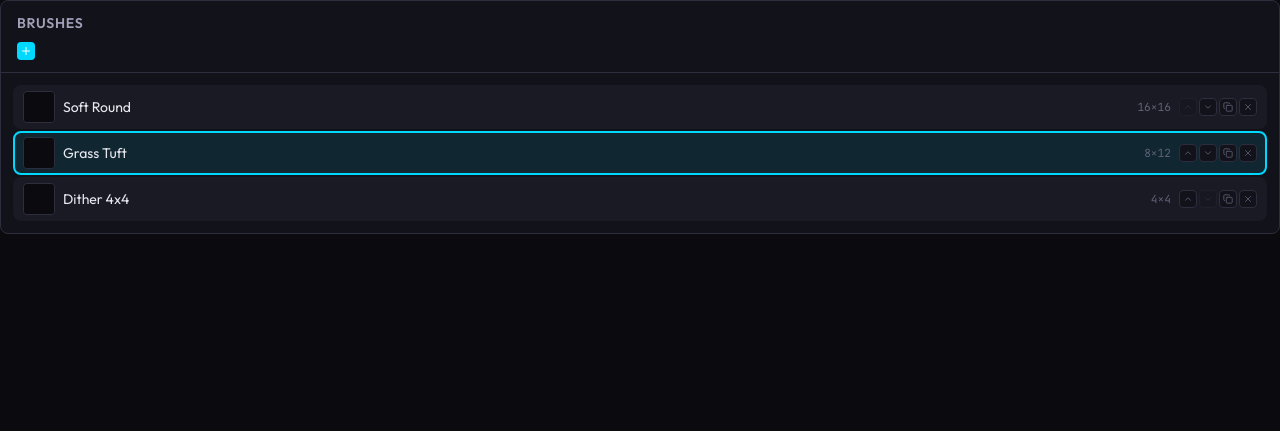
Test: BrushList — the create form › Enter in the name field submits; Escape cancels the form
Click the button named "New brush" at (26, 51), box [17,42,35,60]
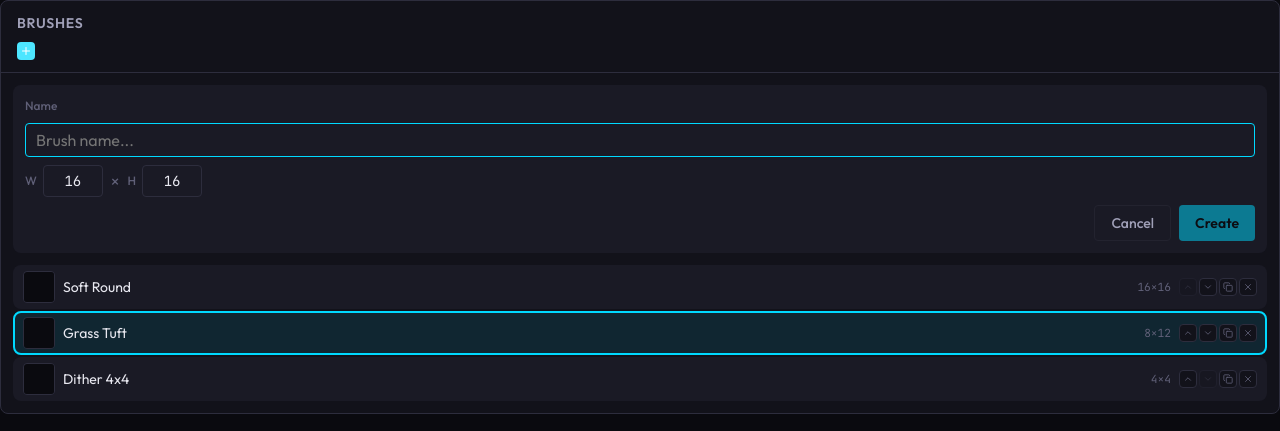
Type "Quick" into the field labelled "Name" at (640, 140), box [25,123,1255,157]
Then press Enter
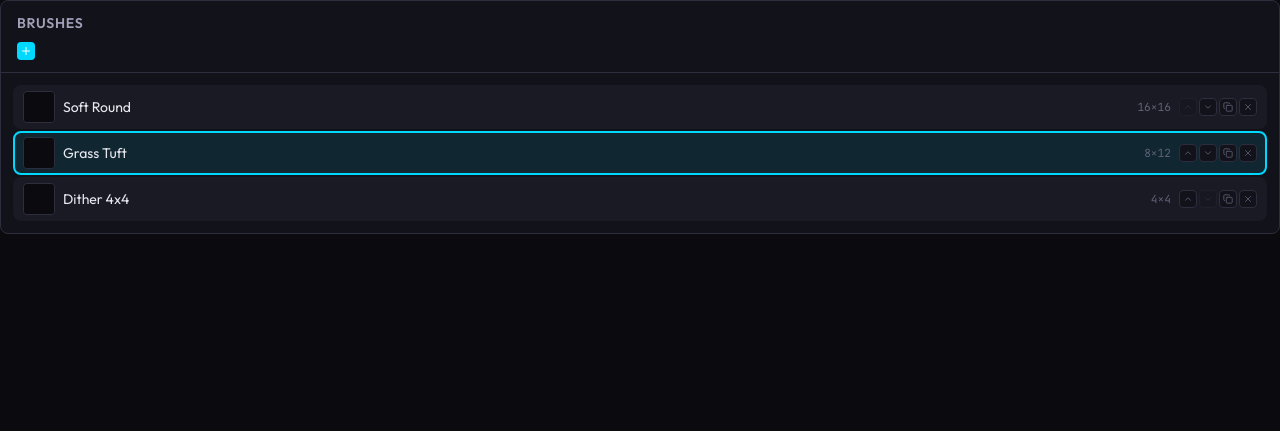
Result: the label labelled "Name" is gone
Click the button named "New brush" at (26, 51), box [17,42,35,60]
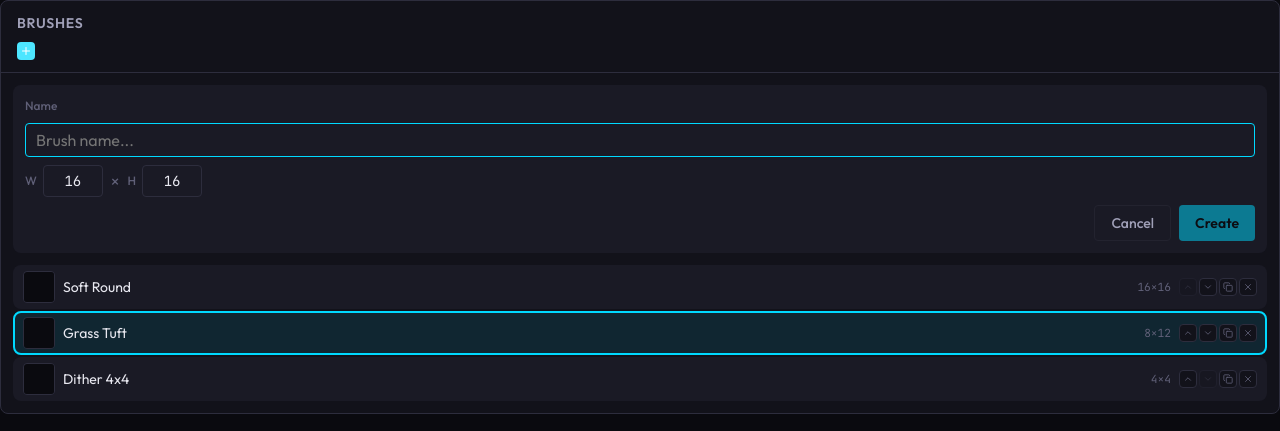
Type "Nope" into the field labelled "Name" at (640, 140), box [25,123,1255,157]
Then press Escape
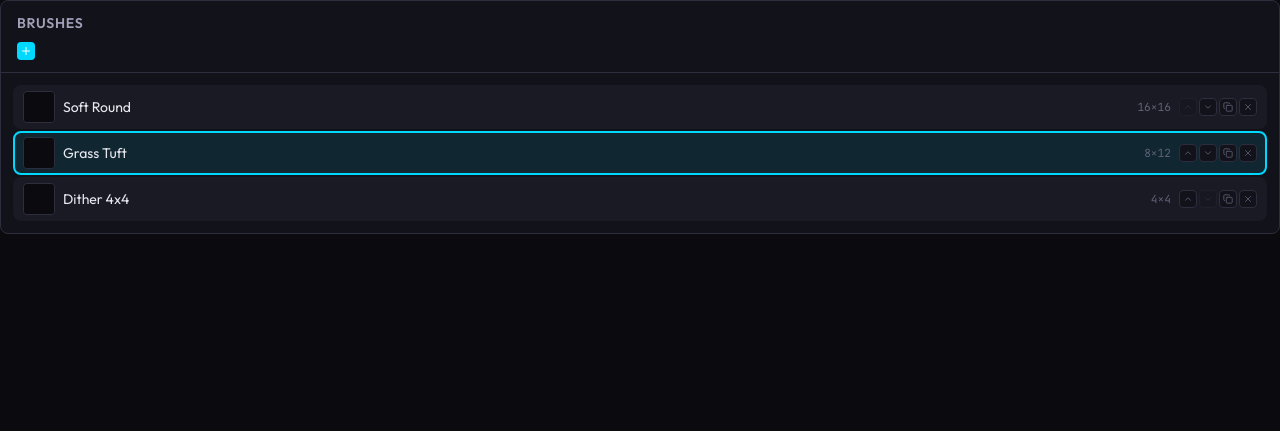
Result: the label labelled "Name" is gone
